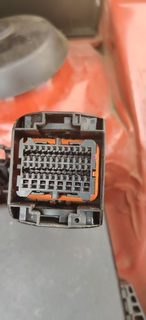connector: (8, 112, 106, 229)
